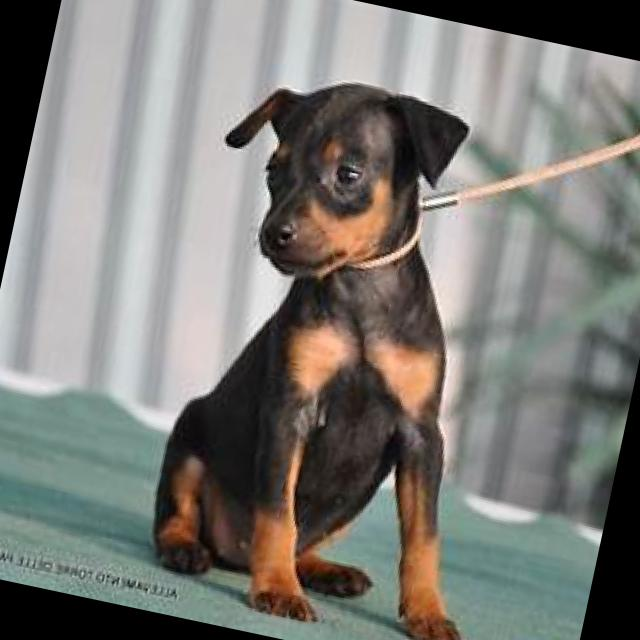animal: (109, 19, 582, 640)
